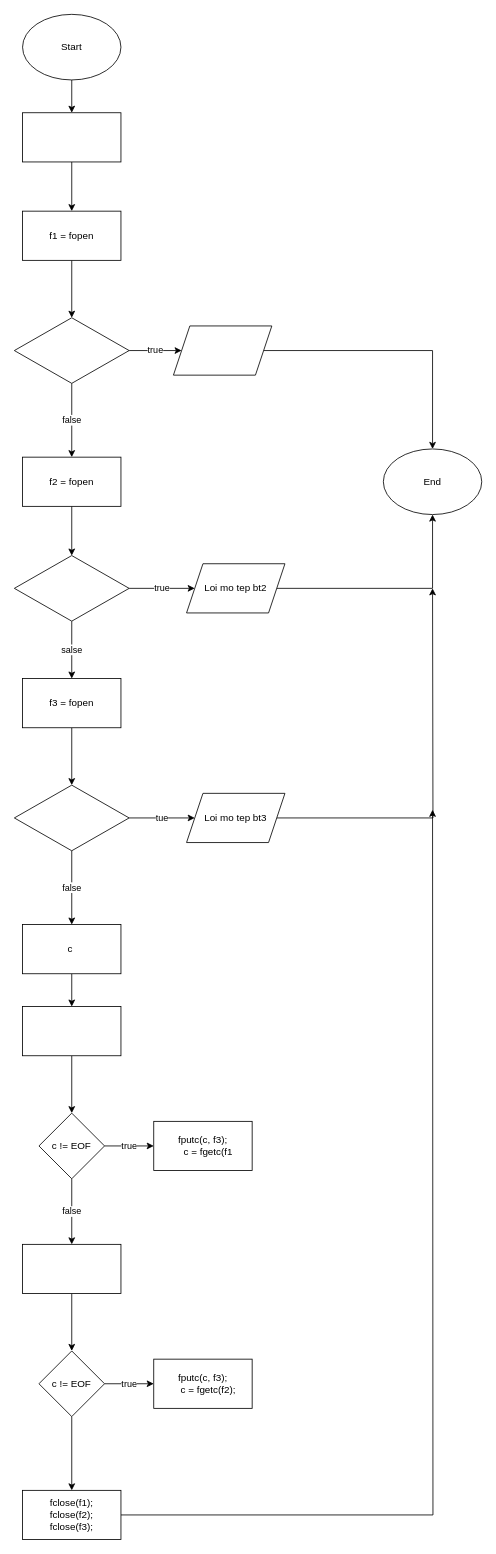
Image size: 496x1554. Some labels were removed from this diagram. The shapes that lost their labels are listed below. From the top down, each one's centre as x and y in pixels, then its label:
At [71,137]: "*f1, *f2, *f3".
At [71,350]: "f1 == NULL".
At [222,350]: "Loi mo tep bt1".
At [71,588]: "f2 == NULL".
At [71,817]: "f3 == NULL".
At [71,1031]: "c= fgetc(f1)".
At [71,1269]: "c = fgetc(f2)".
